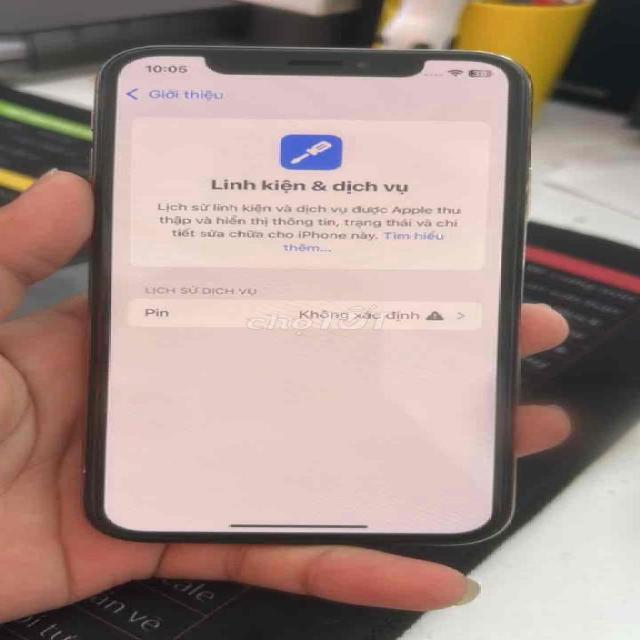gen_x_xs: (70, 36, 568, 562)
